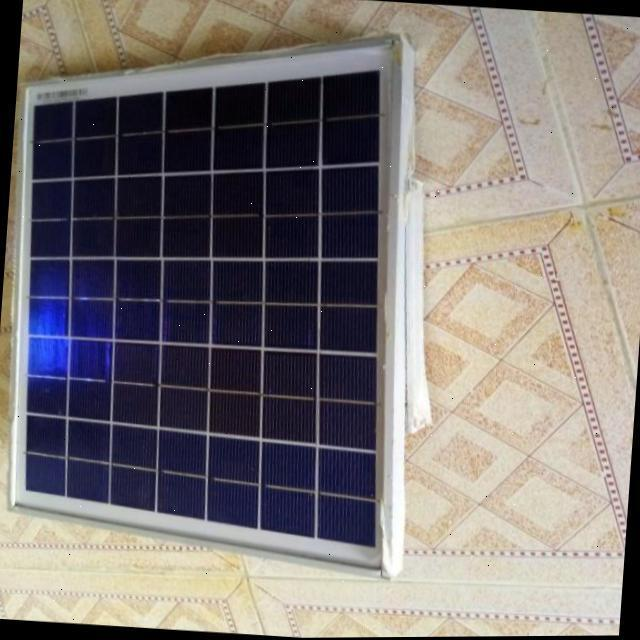Normal Solar Panel: (0, 10, 419, 578)
